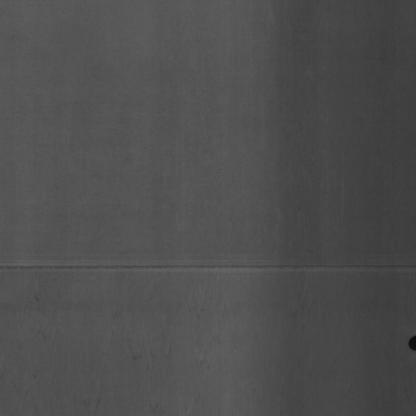punching_hole: (407, 330, 416, 353)
welding_line: (0, 251, 414, 280)
